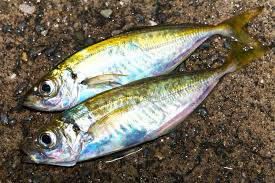azi: (19, 62, 253, 166), (26, 17, 243, 108)
